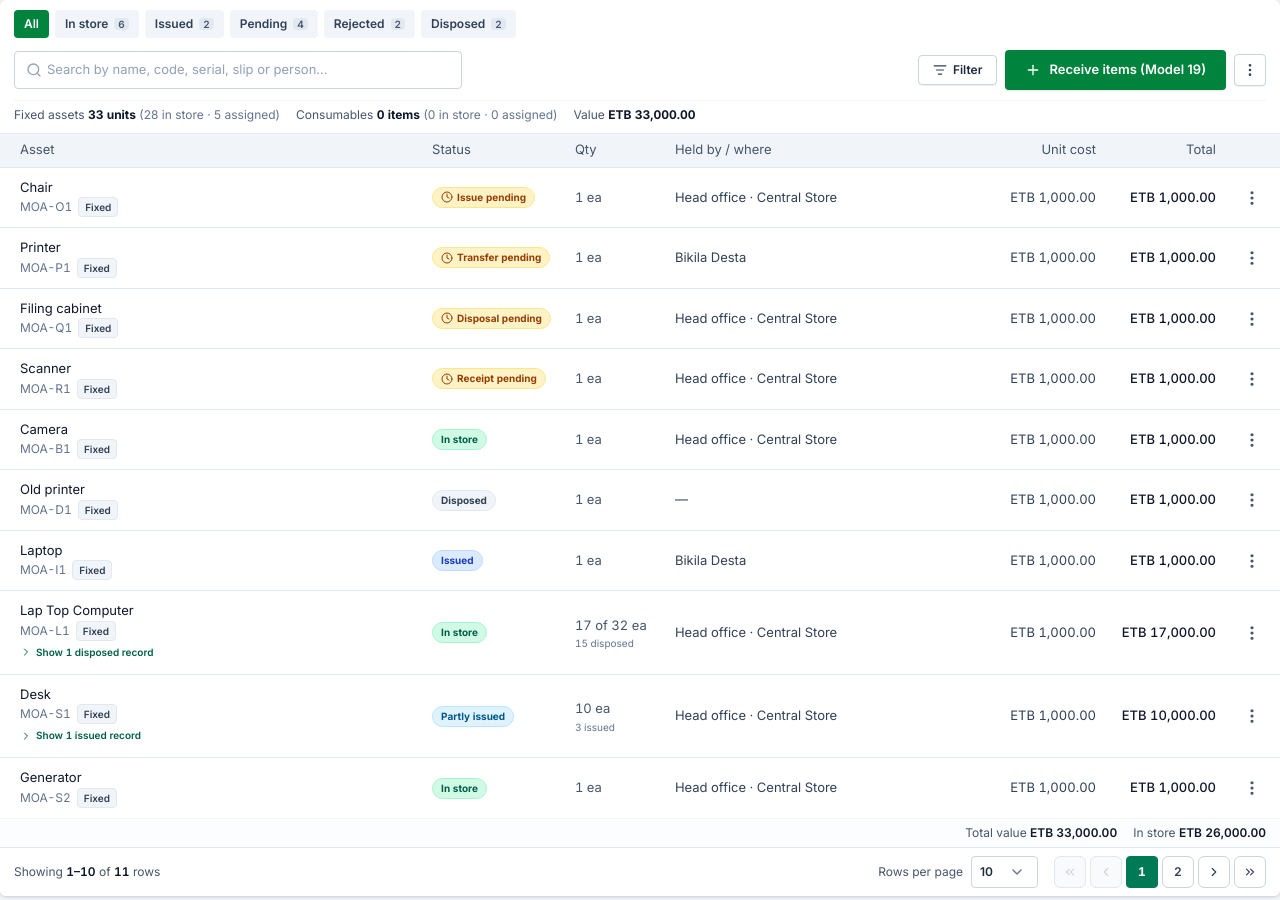
Test: Assets page › shows what was received when part of a batch was disposed of, so the lines add up
The image size is (1280, 900).
Expected: the text "MOA-L1" is shown, [20, 623, 70, 639]
Expected: the row named "Open MOA-L1" shows "17 of 32 ea", [0, 591, 1279, 674]
// Its record says what was received, not what is left, and what was disposed of
Click the cell "Lap Top Computer MOA-L1 Fixed Show 1 disposed record". click: click(77, 610)
box: [0, 591, 420, 674]
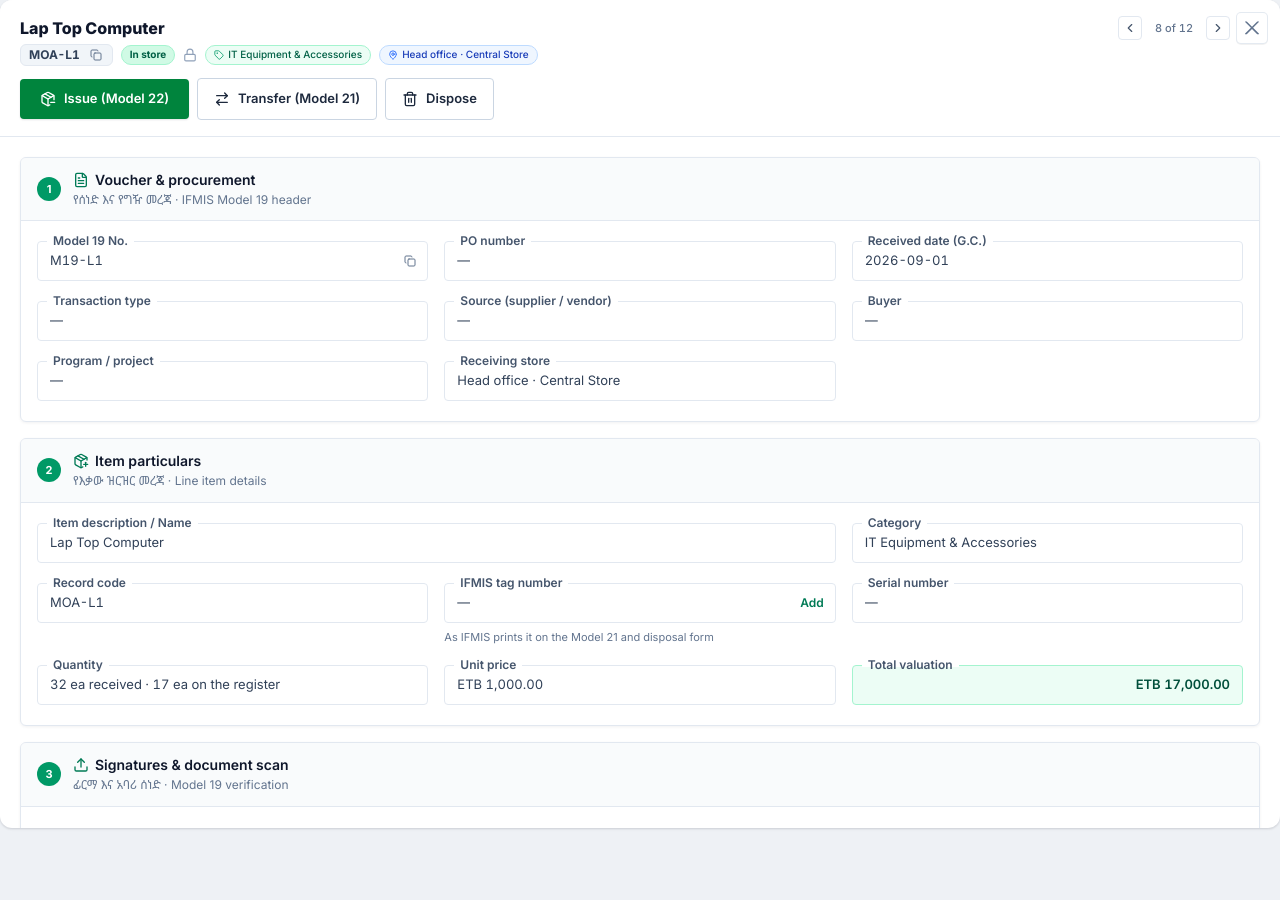
Expected: the text "32 ea received · 17 ea on the register" is shown, [50, 675, 280, 695]
